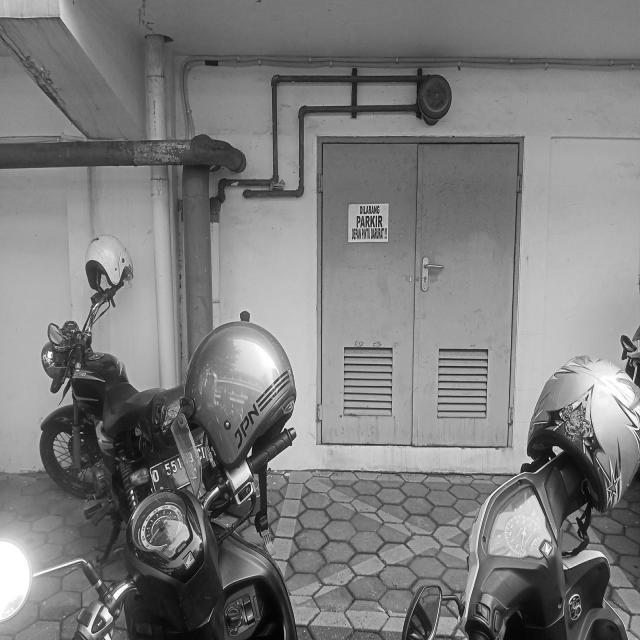door: (315, 134, 524, 454)
